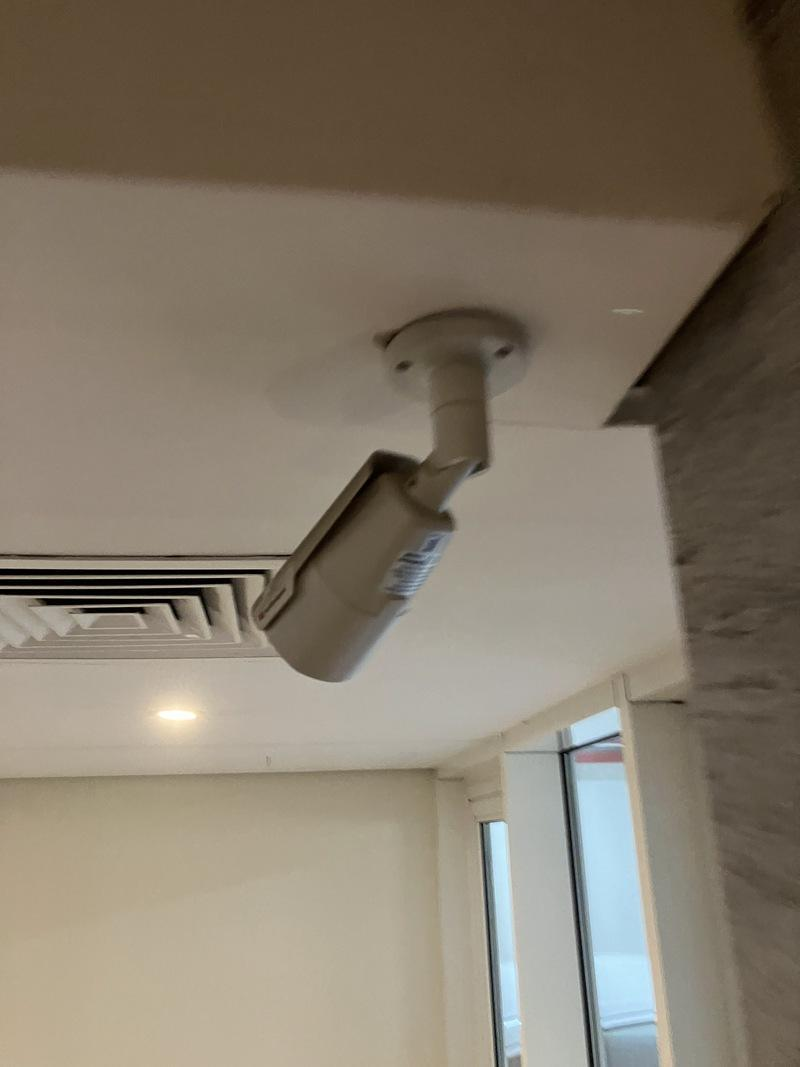bullet: (260, 413, 467, 698)
